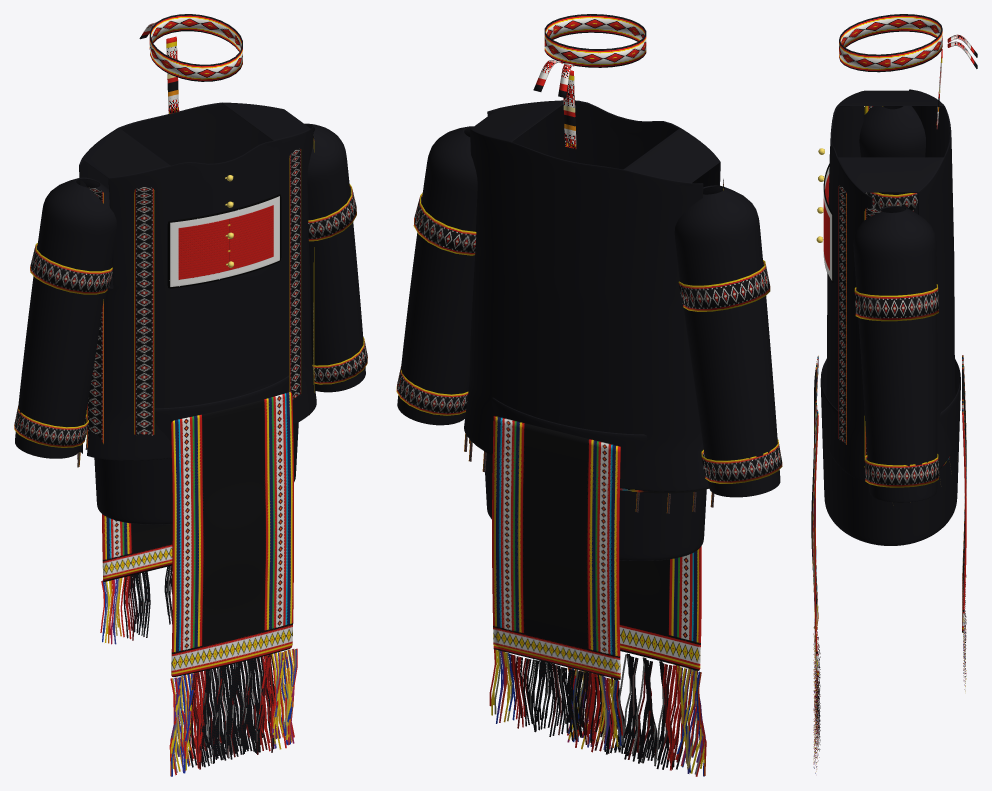
The model's file is Nam_GiaRai.fbx.
3 views of the same model, side by side, from view 1: azimuth 30°, elevation 25°; view 2: azimuth 150°, elevation 25°; view 3: azimuth 270°, elevation 25° (orthographic). The views are drawn at different scales.
Parts seen in each view (by area): view 1: GiaRai_Tunic, GiaRai_Front_Apron, GiaRai_Front_Fringes, GiaRai_Side_Brocade, GiaRai_Chest_Panel, GiaRai_Loincloth_Base, GiaRai_Sleeve_Brocade, GiaRai_Headband, GiaRai_Back_Apron; view 2: GiaRai_Tunic, GiaRai_Back_Apron, GiaRai_Front_Fringes, GiaRai_Front_Apron, GiaRai_Loincloth_Base, GiaRai_Sleeve_Brocade, GiaRai_Headband, GiaRai_Tunic_Back_Brocade_Fringe; view 3: GiaRai_Tunic, GiaRai_Loincloth_Base, GiaRai_Sleeve_Brocade, GiaRai_Headband, GiaRai_Side_Brocade, GiaRai_Front_Apron, GiaRai_Back_Apron, GiaRai_Chest_Panel, GiaRai_Front_Fringes.
Boxes of the visible parts, x1,y1,x2,y2 form: GiaRai_Tunic: (15, 102, 365, 460); GiaRai_Front_Apron: (171, 392, 293, 676); GiaRai_Front_Fringes: (100, 565, 297, 776); GiaRai_Side_Brocade: (86, 133, 314, 447); GiaRai_Chest_Panel: (167, 194, 281, 288); GiaRai_Loincloth_Base: (94, 375, 298, 524); GiaRai_Sleeve_Brocade: (14, 184, 367, 447); GiaRai_Headband: (139, 14, 242, 113); GiaRai_Back_Apron: (102, 514, 172, 581); GiaRai_Tunic: (397, 100, 780, 497); GiaRai_Back_Apron: (492, 416, 620, 679); GiaRai_Front_Fringes: (489, 649, 706, 776); GiaRai_Front_Apron: (619, 546, 701, 670); GiaRai_Loincloth_Base: (484, 397, 706, 560); GiaRai_Sleeve_Brocade: (396, 193, 782, 483); GiaRai_Headband: (533, 14, 646, 149); GiaRai_Tunic_Back_Brocade_Fringe: (464, 433, 714, 513); GiaRai_Tunic: (826, 89, 955, 502); GiaRai_Loincloth_Base: (820, 358, 960, 545); GiaRai_Sleeve_Brocade: (854, 192, 938, 487); GiaRai_Headband: (839, 14, 977, 129); GiaRai_Side_Brocade: (838, 106, 883, 467); GiaRai_Front_Apron: (811, 355, 818, 677); GiaRai_Back_Apron: (962, 355, 966, 632); GiaRai_Chest_Panel: (823, 163, 833, 282); GiaRai_Front_Fringes: (813, 575, 966, 773).
Size of the model in its own units: 81.98 by 159 by 33.35.
Materials: 7 (5 with a texture image).
